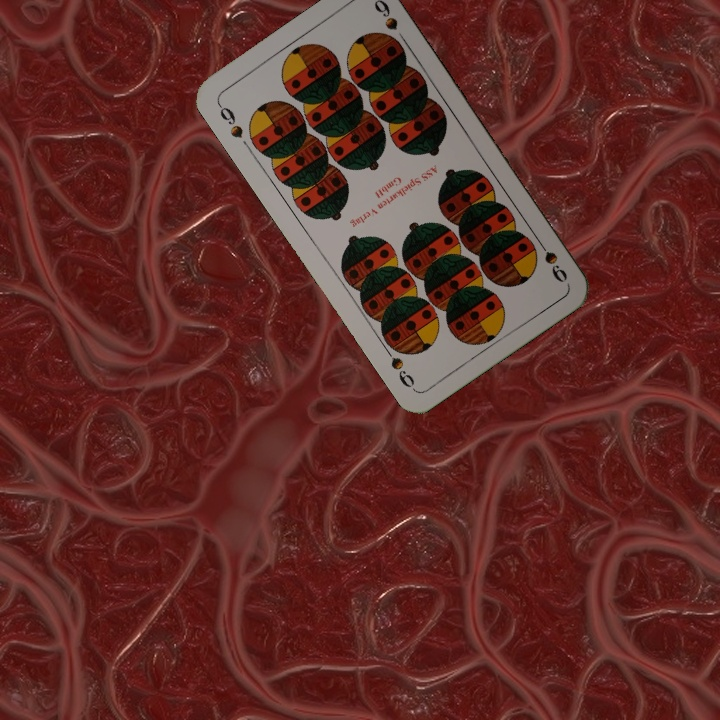S9: (531, 233, 571, 286), (213, 99, 246, 141)
